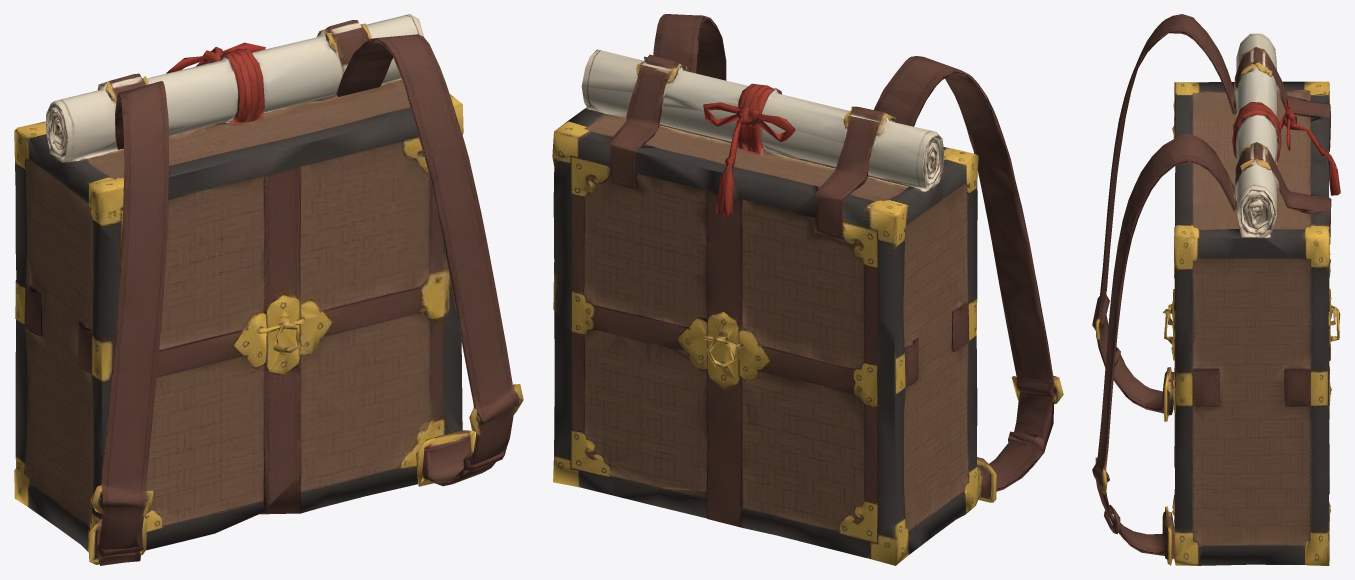
Rendered from book_chest.glb.
3 views of the same model, side by side, from view 1: azimuth 30°, elevation 25°; view 2: azimuth 150°, elevation 25°; view 3: azimuth 270°, elevation 25° (orthographic). The views are drawn at different scales.
Parts seen in each view (by area): view 1: book_chest; view 2: book_chest; view 3: book_chest.
Boxes of the visible parts, x1,y1,x2,y2 form: book_chest: (14, 14, 523, 565); book_chest: (552, 14, 1063, 565); book_chest: (1092, 14, 1340, 565).
Size of the model in its own units: 0.3166 by 0.3235 by 0.1781.
Materials: 1 (1 with a texture image).
